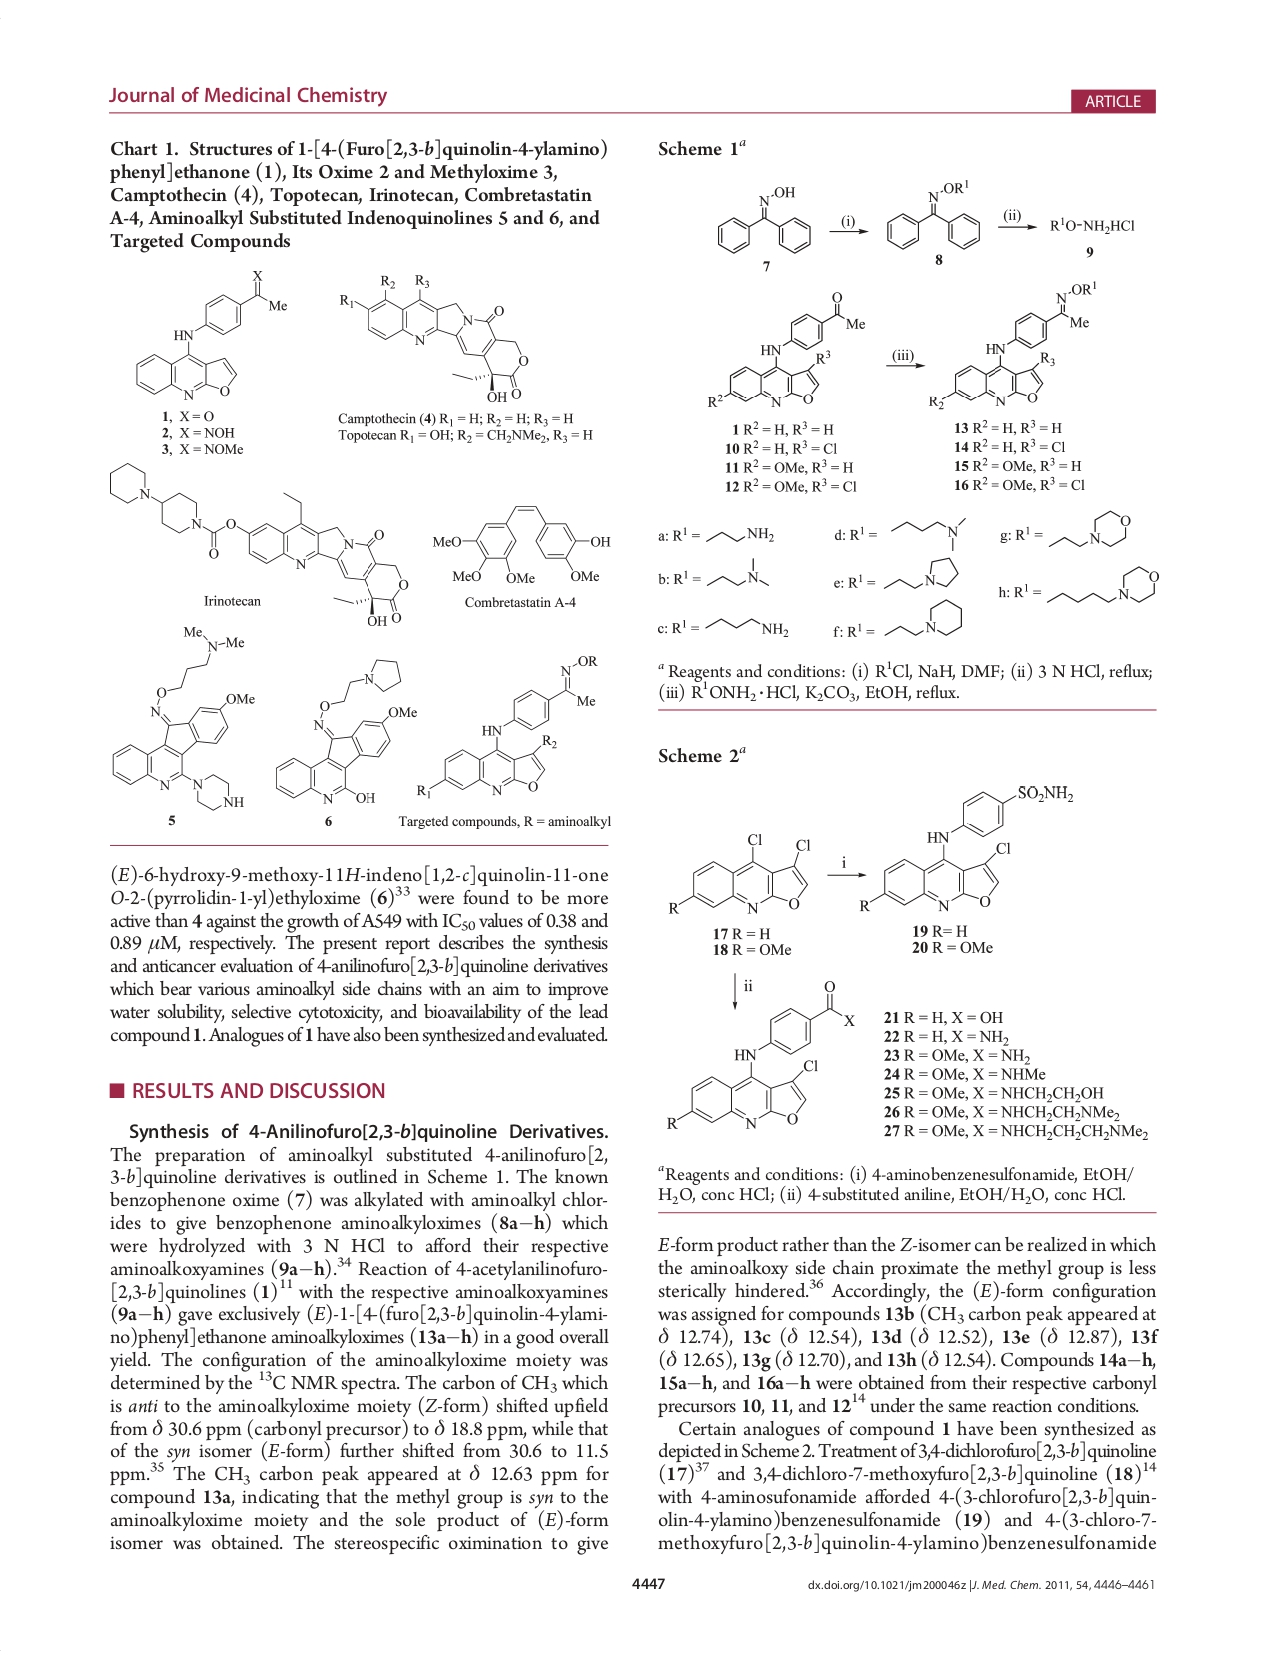exist_molecular: (106, 457, 408, 628), (664, 977, 858, 1132), (858, 779, 1075, 916), (106, 625, 257, 813), (418, 653, 600, 801), (336, 270, 529, 406), (926, 281, 1098, 414), (273, 657, 418, 807), (132, 269, 289, 403), (702, 289, 864, 412), (430, 501, 613, 590), (666, 830, 818, 918), (710, 184, 815, 255), (884, 177, 985, 251), (1047, 564, 1164, 610), (1048, 507, 1133, 556), (890, 509, 972, 555), (882, 598, 968, 640), (1045, 207, 1140, 242), (701, 609, 793, 642), (880, 556, 961, 593), (703, 555, 770, 596), (702, 523, 778, 552)
